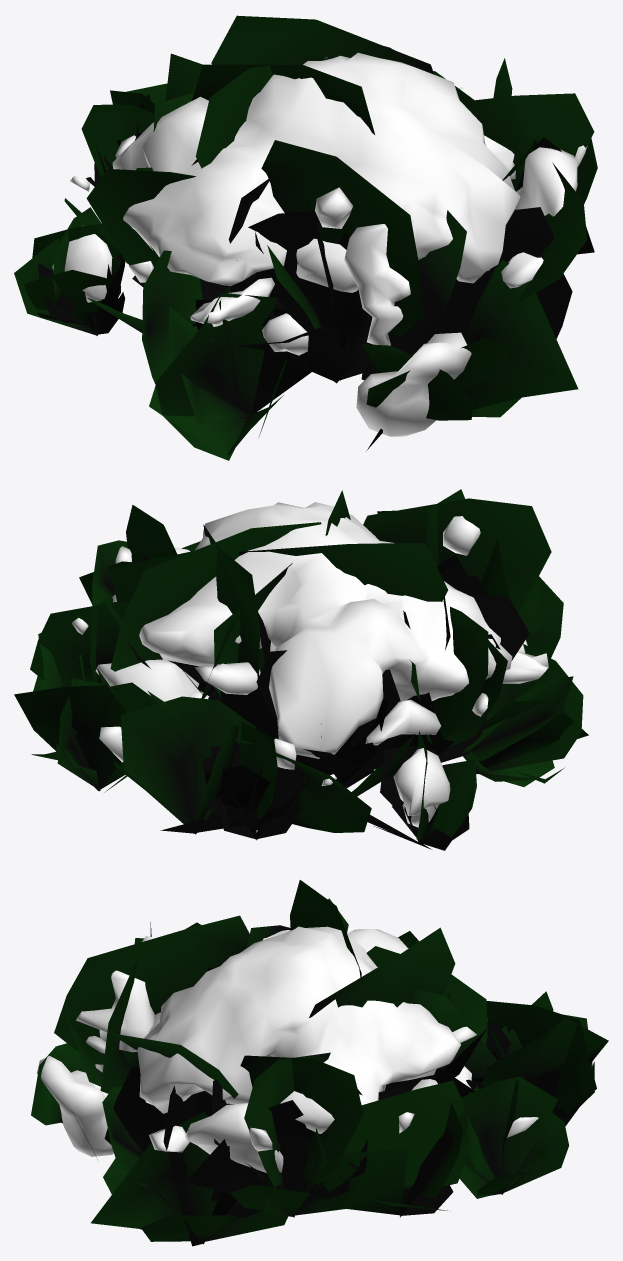
File: SnowBushClumpBRHE_LOD1.fbx
The picture shows the model from 3 angles, top to bottom: view 1: azimuth 30°, elevation 25°; view 2: azimuth 150°, elevation 25°; view 3: azimuth 270°, elevation 25°; orthographic projection. The views are drawn at different scales.
Visible parts, largest first — view 1: SnowBushClumpBRHE_LOD1; view 2: SnowBushClumpBRHE_LOD1; view 3: SnowBushClumpBRHE_LOD1.
Boxes of the visible parts, left/top/right/bottom form: SnowBushClumpBRHE_LOD1: left=14, top=15, right=597, bottom=460; SnowBushClumpBRHE_LOD1: left=14, top=489, right=588, bottom=850; SnowBushClumpBRHE_LOD1: left=31, top=880, right=608, bottom=1246.
Size of the model in its own units: 4.4 by 2.71 by 5.
